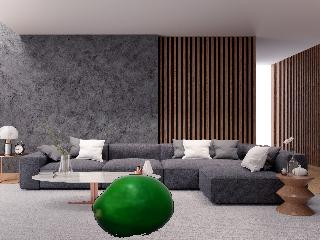lime: (93, 174, 175, 238)
